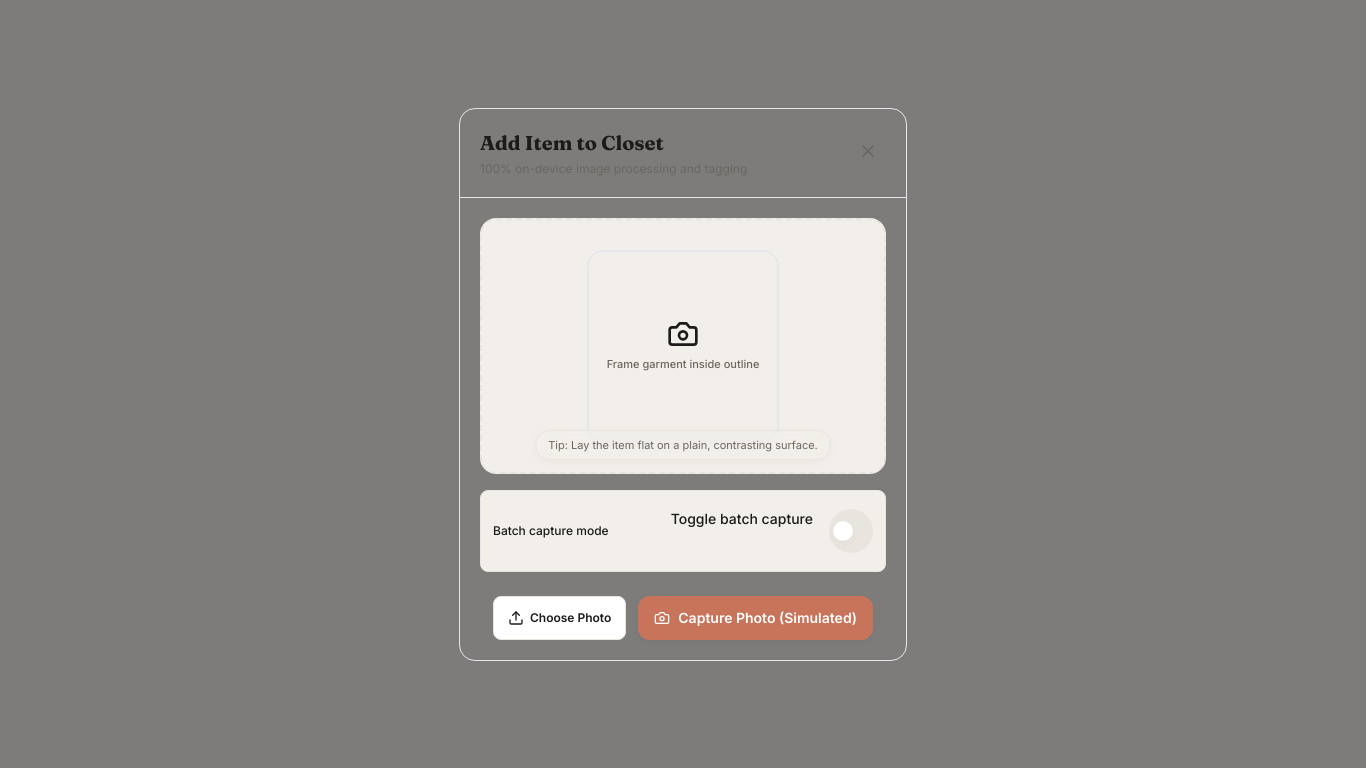
Scenario: Phase 4: Closet & Inventory Unit Tests › AddItemFlow captures simulated photo, processes tags, and saves item to Dexie
Expected: the text "Frame garment inside outline" is shown, [607,356,759,370]
# Click capture photo (simulated)
Click the button "Capture Photo (Simulated)" at {"x": 756, "y": 618}, box [638,596,873,640]
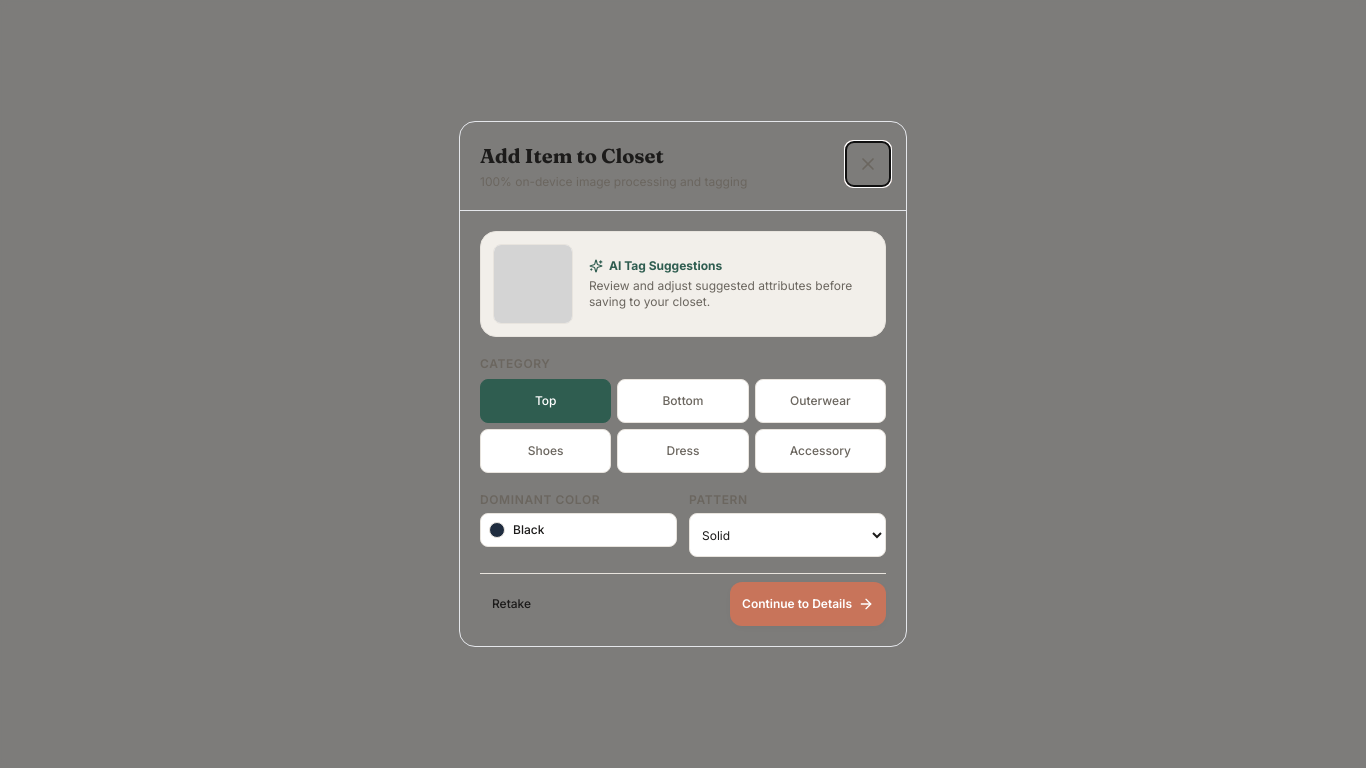
Result: the text "AI Tag Suggestions" is shown at [609,258,722,274]
# Continue to details
Click the button "Continue to Details" at {"x": 808, "y": 604}, box [730,582,886,626]
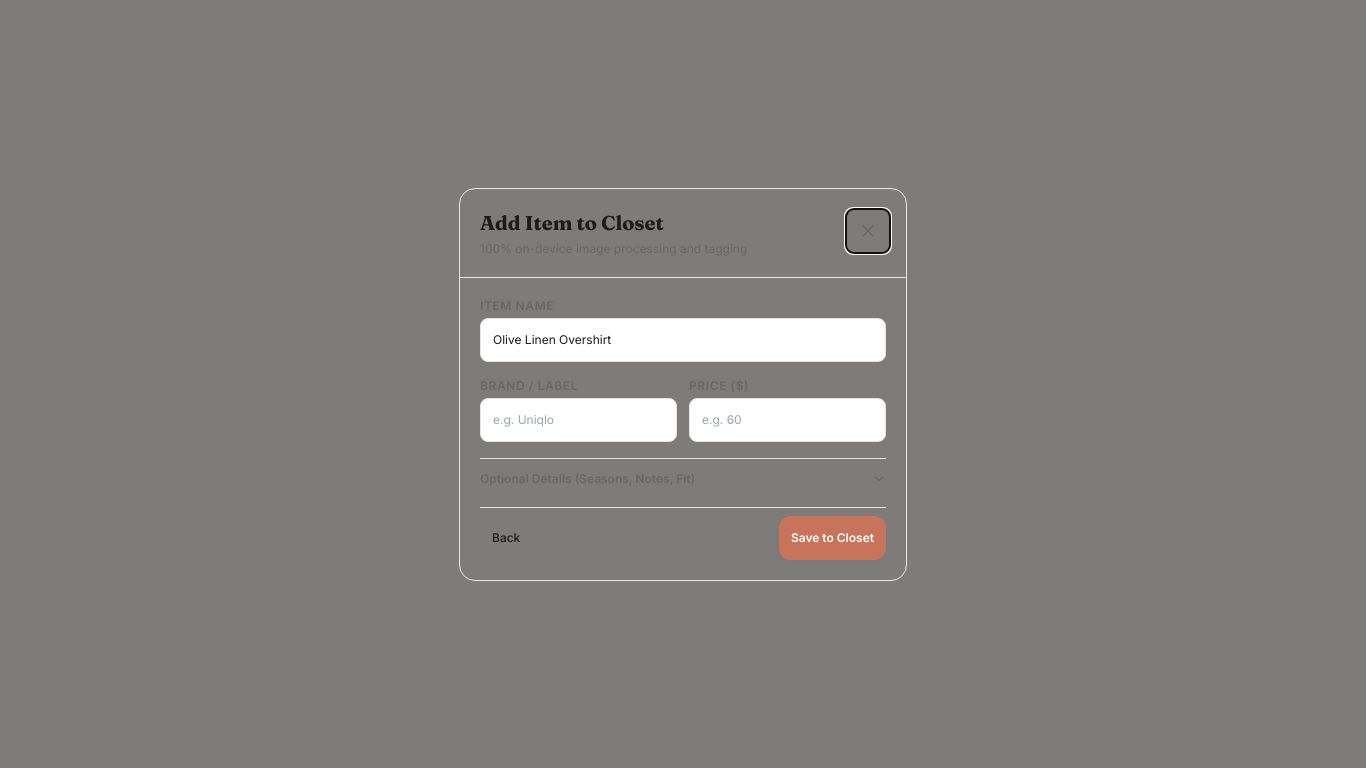
Result: the text "Item Name" is shown at [480,298,554,312]
# Save to closet
Click the button "Save to Closet" at {"x": 832, "y": 538}, box [779,516,886,560]
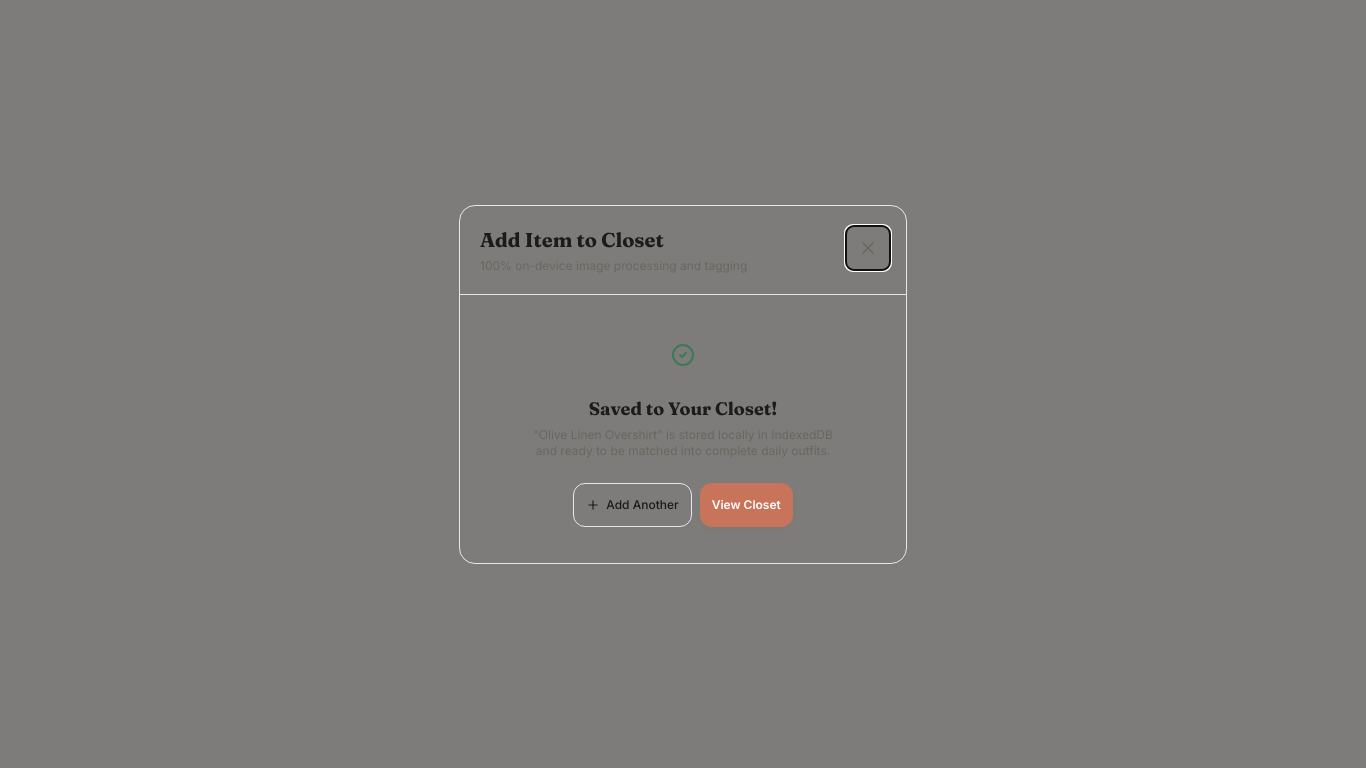
Result: the heading "Saved to Your Closet!" is shown at [589,396,777,420]
